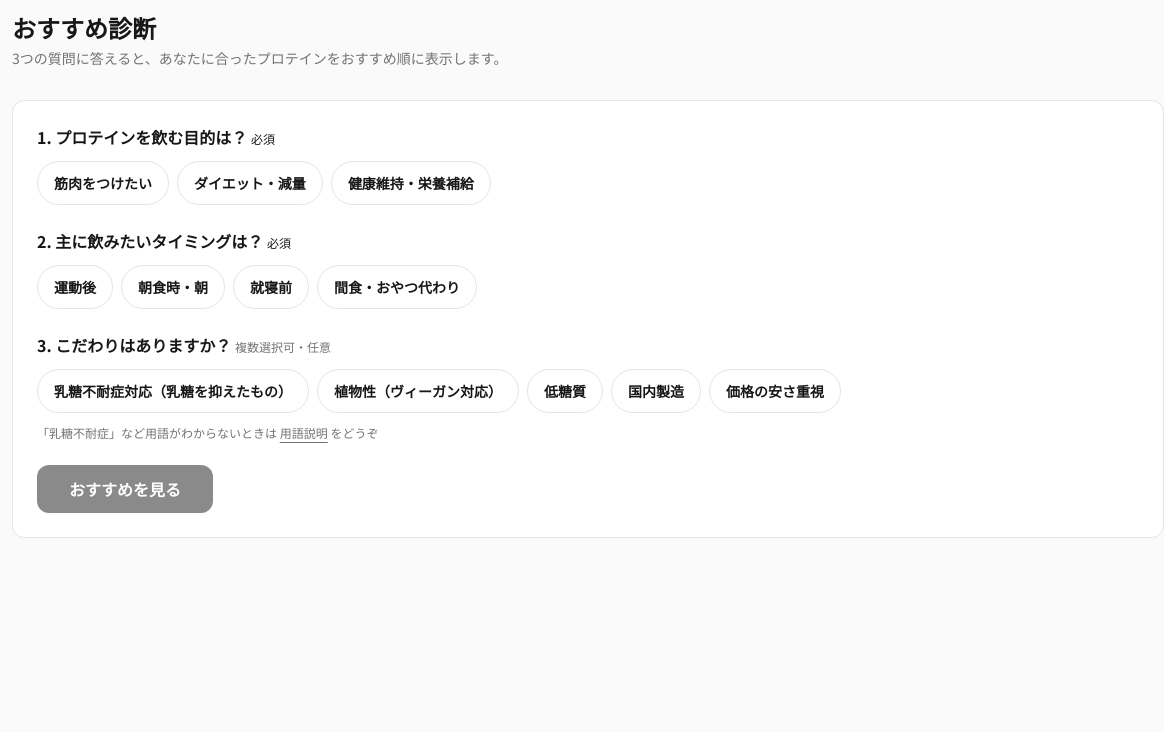
RecommendView — 条件選択（ui-spec.md §2） › TC-U13 正常系: 目的とタイミングを選ぶと押せるようになる
What coordinates should you click on to do the following:
click the radio button labelled "筋肉をつけたい"
I would click on:
 (103, 183)
Its box is [37, 161, 169, 205].
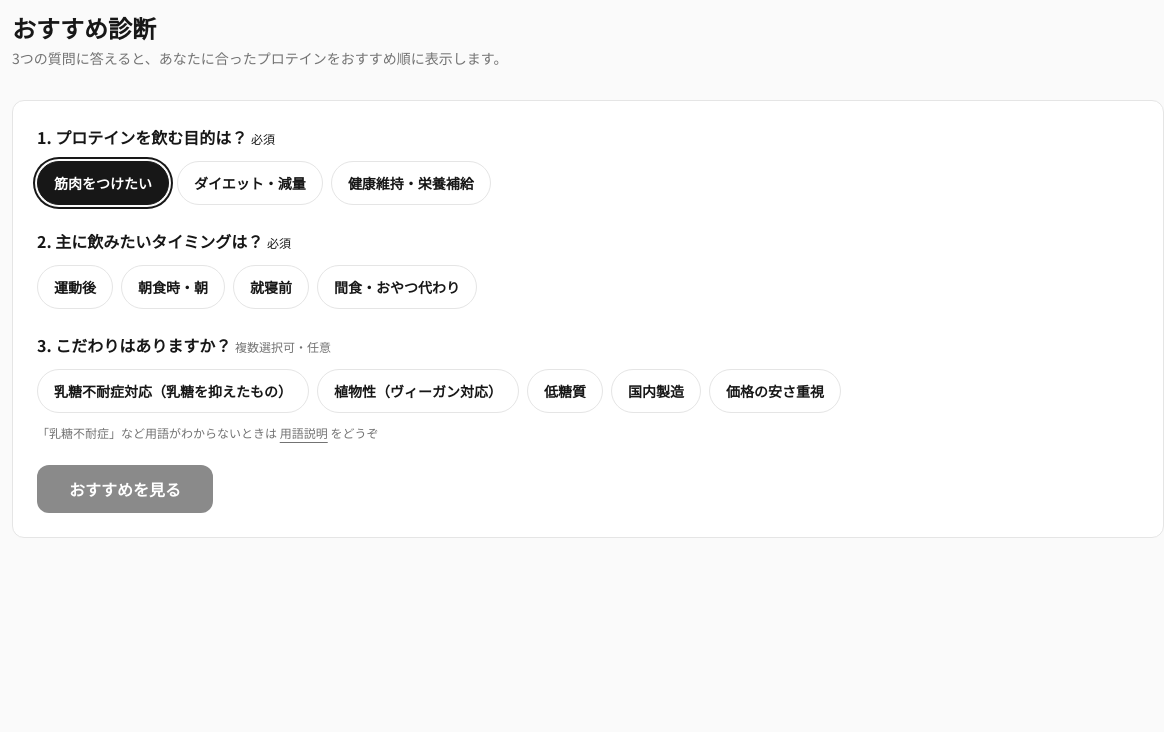
What coordinates should you click on to do the following:
click the radio button labelled "運動後"
I would click on:
 (75, 287)
Its box is [37, 265, 113, 309].
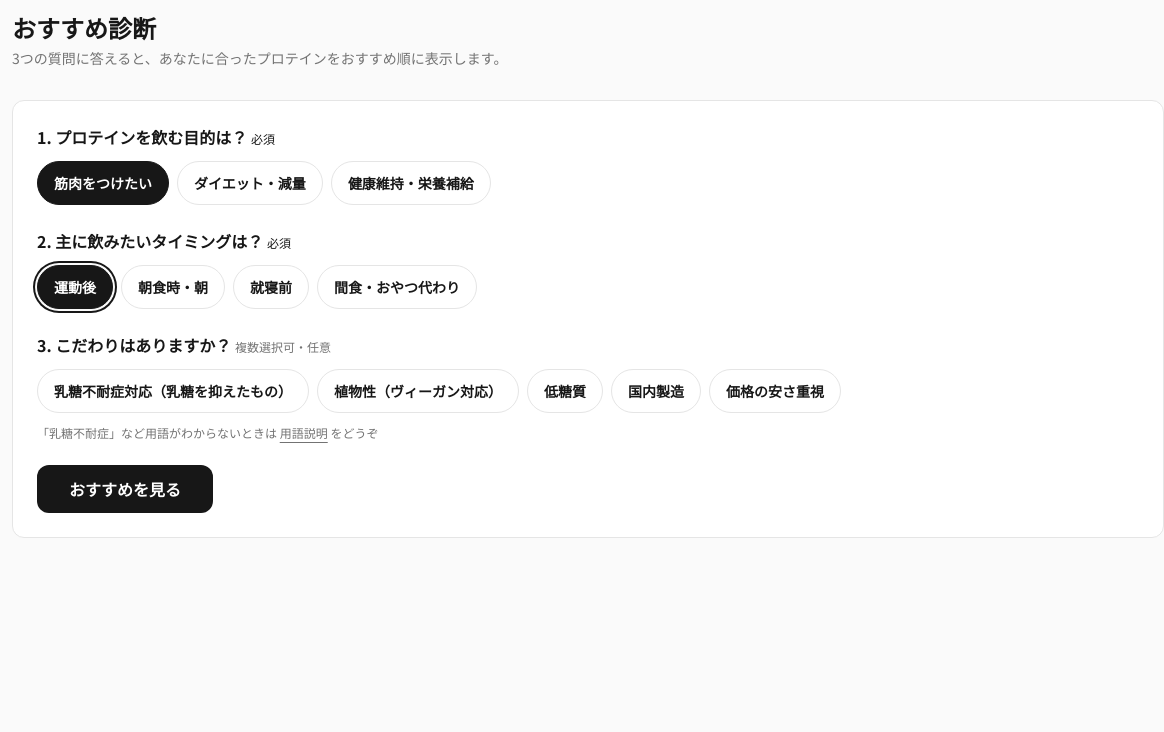
Check: the button "おすすめを見る" is enabled, box [37, 465, 213, 513]
